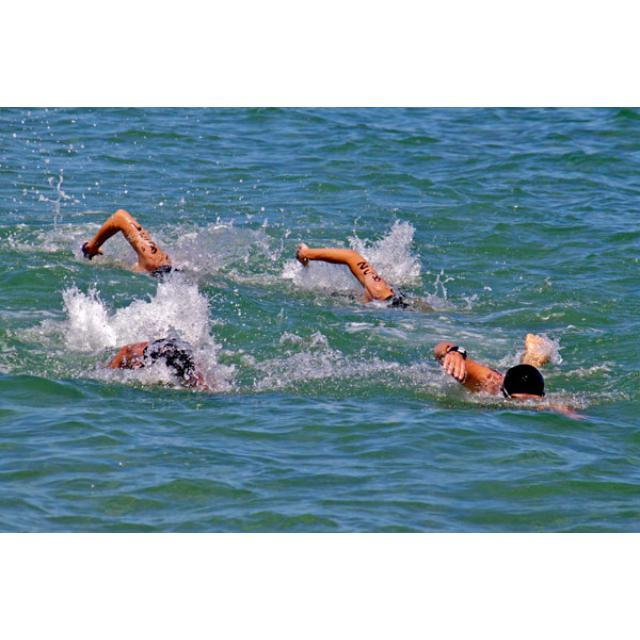human: (433, 337, 588, 424), (294, 236, 412, 310), (77, 208, 178, 281), (105, 336, 214, 398)
